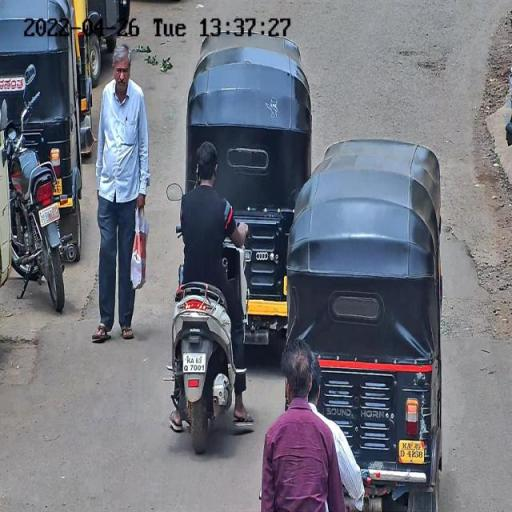numberplate: (183, 350, 206, 372)
using mobile: (193, 157, 203, 187)
